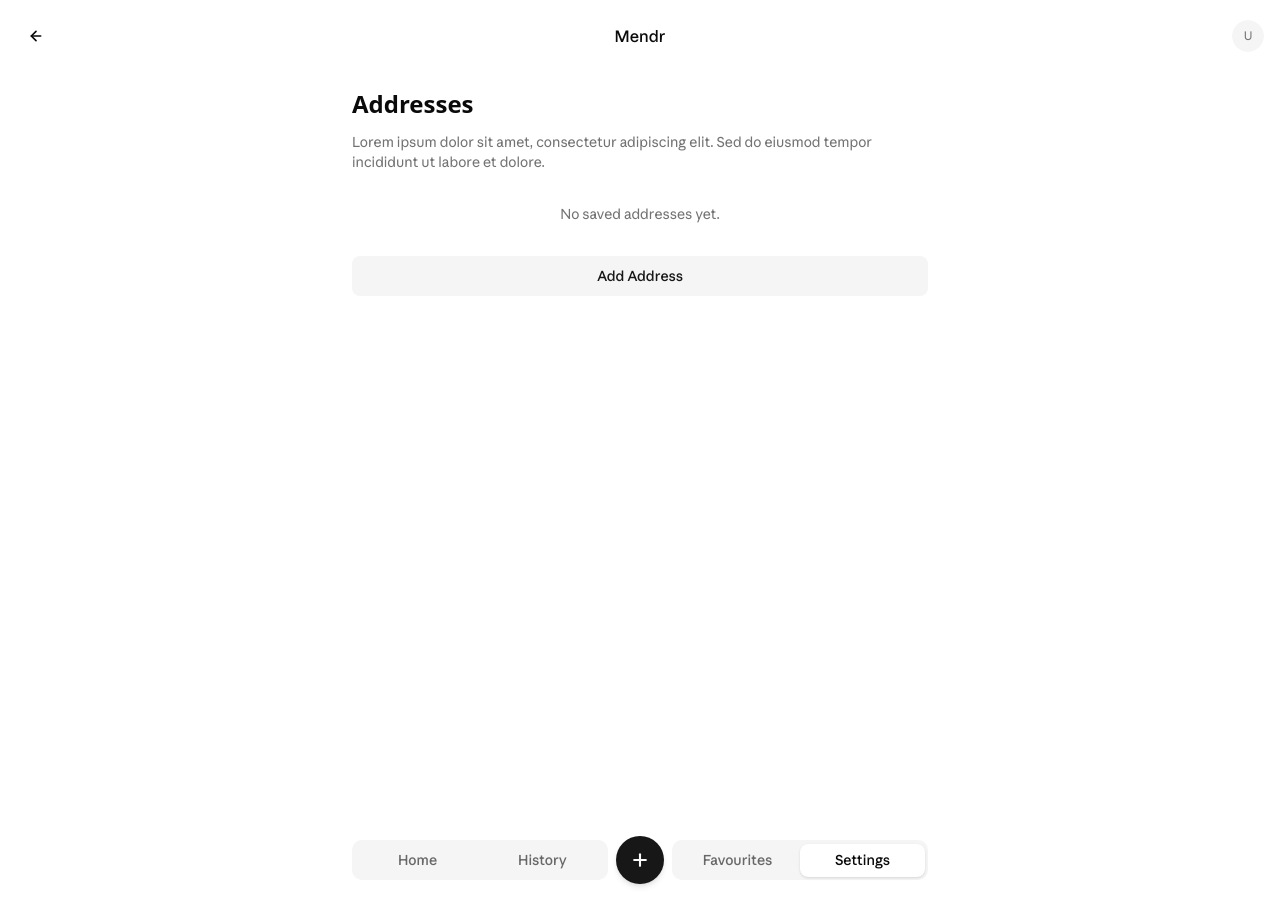
settings/addresses/client.tsx › "Cancel" button hides the add form
This screenshot has width=1280, height=900.
Click the button "Add Address". click: (640, 276)
box: [352,256,928,296]
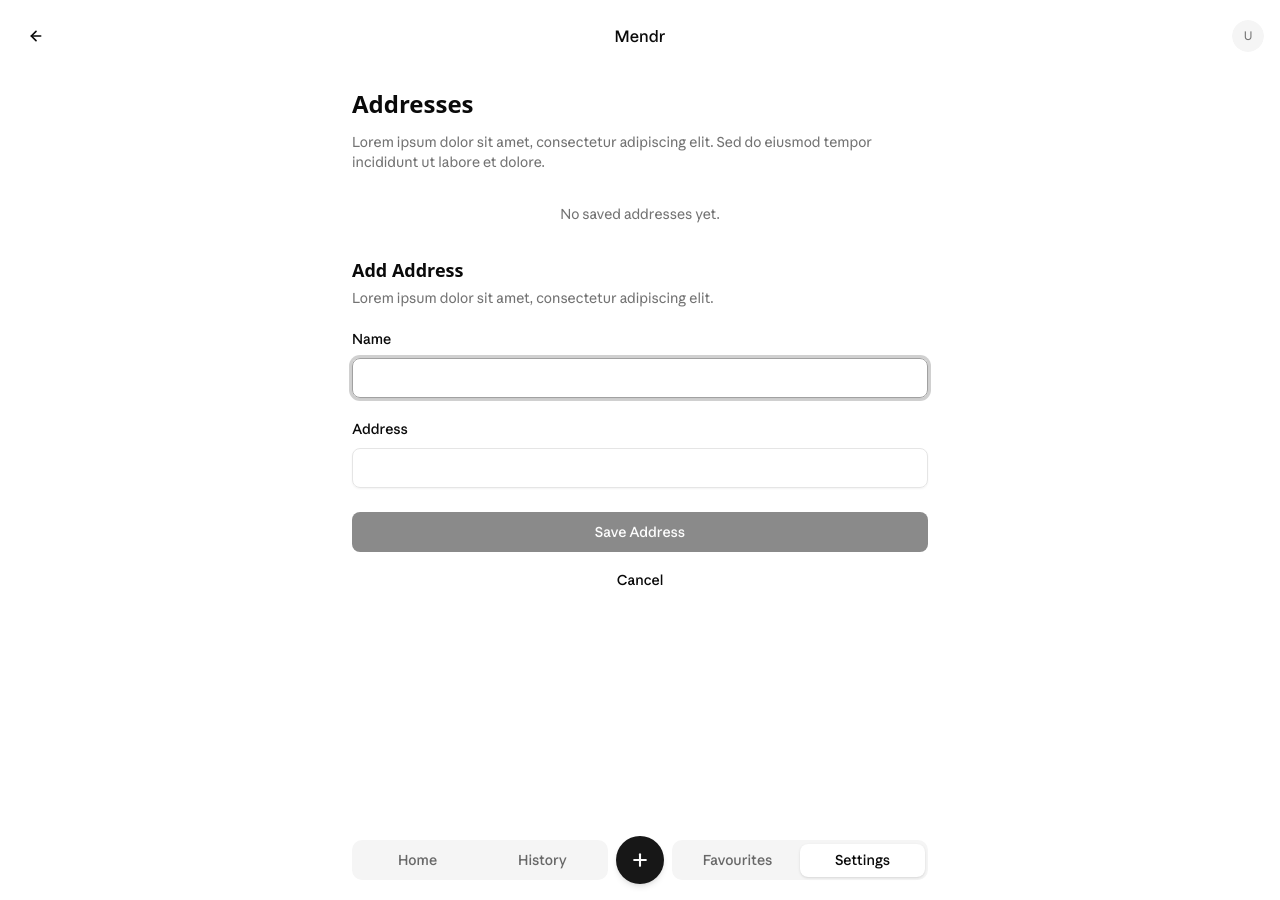
Expected: the field labelled "Name" is shown, [352,358,928,398]
Click the button "Cancel". click: (640, 580)
box: [352,560,928,600]
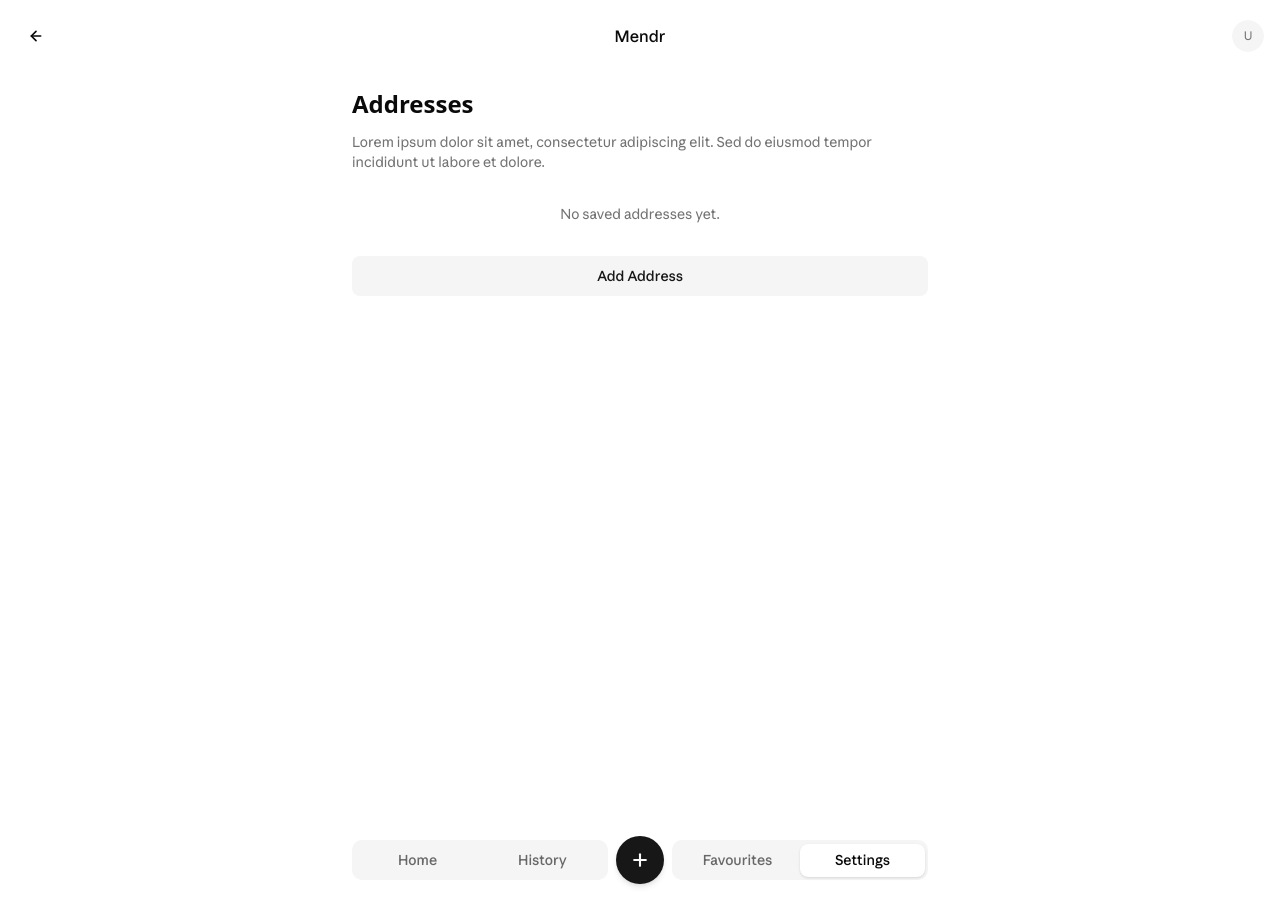
Expected: the label labelled "Name" is gone
